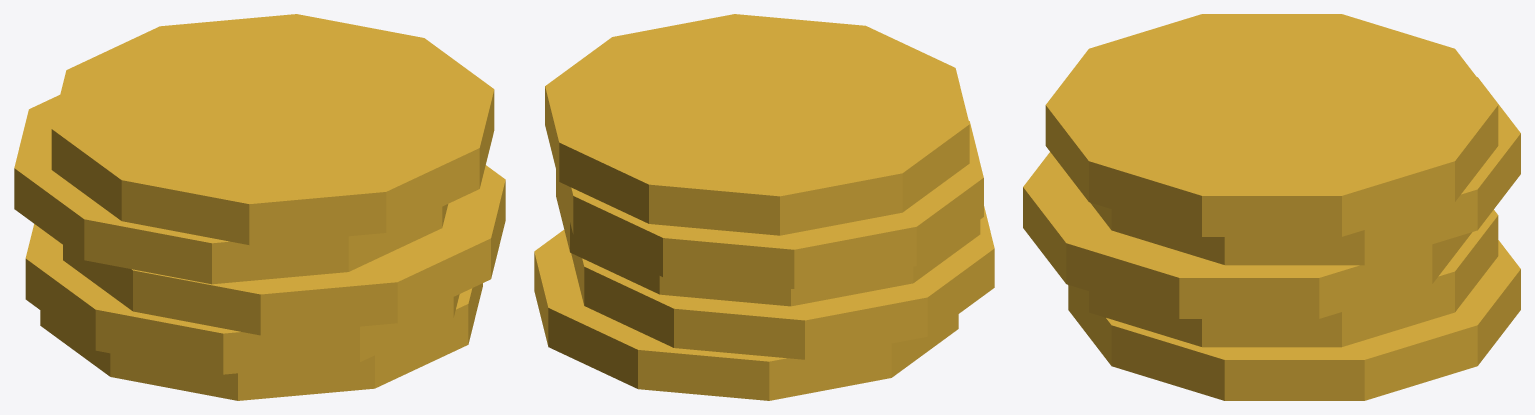
File: coins.fbx
3 renders of one model, left to right at view 1: azimuth 30°, elevation 25°; view 2: azimuth 150°, elevation 25°; view 3: azimuth 270°, elevation 25°, orthographic. The views are drawn at different scales.
Parts seen in each view (by area): view 1: coins; view 2: coins; view 3: coins.
Boxes of the visible parts, bbox=[...] form: coins: bbox=[14, 14, 505, 400]; coins: bbox=[534, 14, 994, 400]; coins: bbox=[1023, 14, 1520, 400].
Bounding box in the file's own units: 0.2443 × 0.12 × 0.264.
